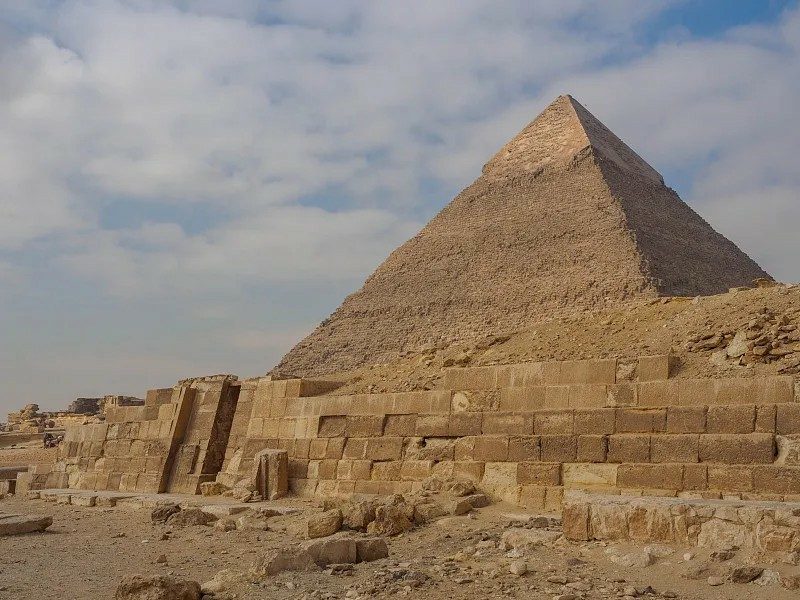Pyramid: (267, 94, 777, 376)
